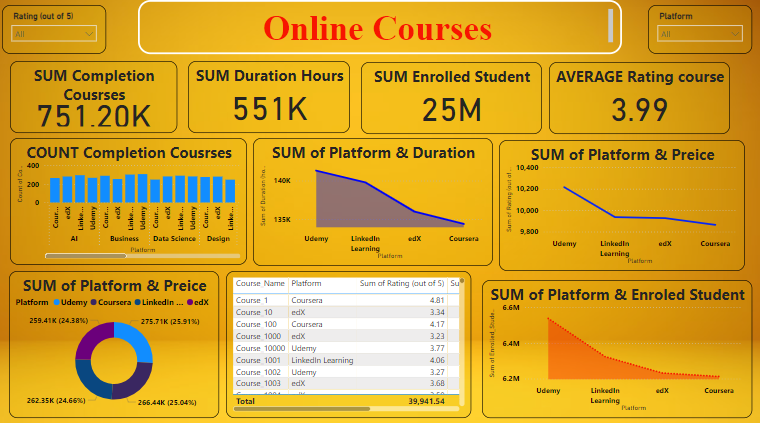

The page's visual inventory and layout, read from the dashboard file:
{"tool":"powerbi","page":{"name":"Page 1","canvas":[1280,720],"ordinal":0},"visuals":[{"type":"card","title":"SUM Completion Cousrses","fields":{"Values":["Sum(online_courses_uses.Completion_Rate (%))"]},"box":[20.2,102.5,280.5,120.9],"z":0},{"type":"card","title":"SUM Duration Hours","fields":{"Values":["Sum(online_courses_uses.Duration (hours))"]},"box":[319.2,102.5,272.1,120.9],"z":1000},{"type":"card","title":"SUM Enrolled Student","fields":{"Values":["Sum(online_courses_uses.Enrolled_Students)"]},"box":[609.8,104.1,304,120.9],"z":2000},{"type":"card","title":"AVERAGE Rating course","fields":{"Values":["Avg(online_courses_uses.Rating (out of 5))"]},"box":[925.6,104.1,304,120.9],"z":3000},{"type":"columnChart","title":"COUNT Completion Cousrses","fields":{"Category":["online_courses_uses.Category","online_courses_uses.Platform"],"Y":["CountNonNull(online_courses_uses.Completion_Rate (%))"]},"box":[20.2,231.8,398.1,213.3],"z":4000},{"type":"donutChart","title":"SUM of Platform & Preice","fields":{"Category":["online_courses_uses.Platform"],"Y":["Sum(online_courses_uses.Price ($))"]},"box":[18.5,455.2,352.8,246.9],"z":5000},{"type":"stackedAreaChart","title":"SUM of Platform & Duration","fields":{"Category":["online_courses_uses.Platform"],"Y":["Sum(online_courses_uses.Duration (hours))"]},"box":[428.3,231.8,403.1,215],"z":6000},{"type":"lineChart","title":"SUM of Platform & Preice","fields":{"Category":["online_courses_uses.Platform"],"Y":["Sum(online_courses_uses.Rating (out of 5))"]},"box":[841.6,235.2,413.2,220.1],"z":7000},{"type":"tableEx","fields":{"Values":["online_courses_uses.Course_Name","online_courses_uses.Platform","Sum(online_courses_uses.Rating (out of 5))","Sum(online_courses_uses.Price ($))","Sum(online_courses_uses.Enrolled_Students)"]},"box":[383,455.2,411.5,246.9],"z":8000},{"type":"areaChart","title":"SUM of Platform & Enroled Student","fields":{"Category":["online_courses_uses.Platform"],"Y":["Sum(online_courses_uses.Enrolled_Students)"]},"box":[813,470.3,453.5,231.8],"z":9000},{"type":"slicer","fields":{"Values":["online_courses_uses.Rating (out of 5)"]},"box":[6.7,8.4,174.7,82.3],"z":10000},{"type":"slicer","fields":{"Values":["online_courses_uses.Platform"]},"box":[1091.9,8.4,174.7,82.3],"z":10001},{"type":"textbox","box":[235.2,0,813,90.7],"z":10002}]}

Visuals, with their boxes in screenshot pixels (x1, y1, x2, y2), scaled from the page's 1280x720 canvas onto the 760x423 screenshot:
"SUM Completion Cousrses" card: bbox(12, 60, 179, 131)
"SUM Duration Hours" card: bbox(190, 60, 351, 131)
"SUM Enrolled Student" card: bbox(362, 61, 543, 132)
"AVERAGE Rating course" card: bbox(550, 61, 730, 132)
"COUNT Completion Cousrses" columnChart: bbox(12, 136, 248, 261)
"SUM of Platform & Preice" donutChart: bbox(11, 267, 220, 412)
"SUM of Platform & Duration" stackedAreaChart: bbox(254, 136, 494, 262)
"SUM of Platform & Preice" lineChart: bbox(500, 138, 745, 267)
tableEx - online_courses_uses.Course_Name x online_courses_uses.Platform: bbox(227, 267, 472, 412)
"SUM of Platform & Enroled Student" areaChart: bbox(483, 276, 752, 412)
slicer - online_courses_uses.Rating (out of 5): bbox(4, 5, 108, 53)
slicer - online_courses_uses.Platform: bbox(648, 5, 752, 53)
textbox: bbox(140, 0, 622, 53)
